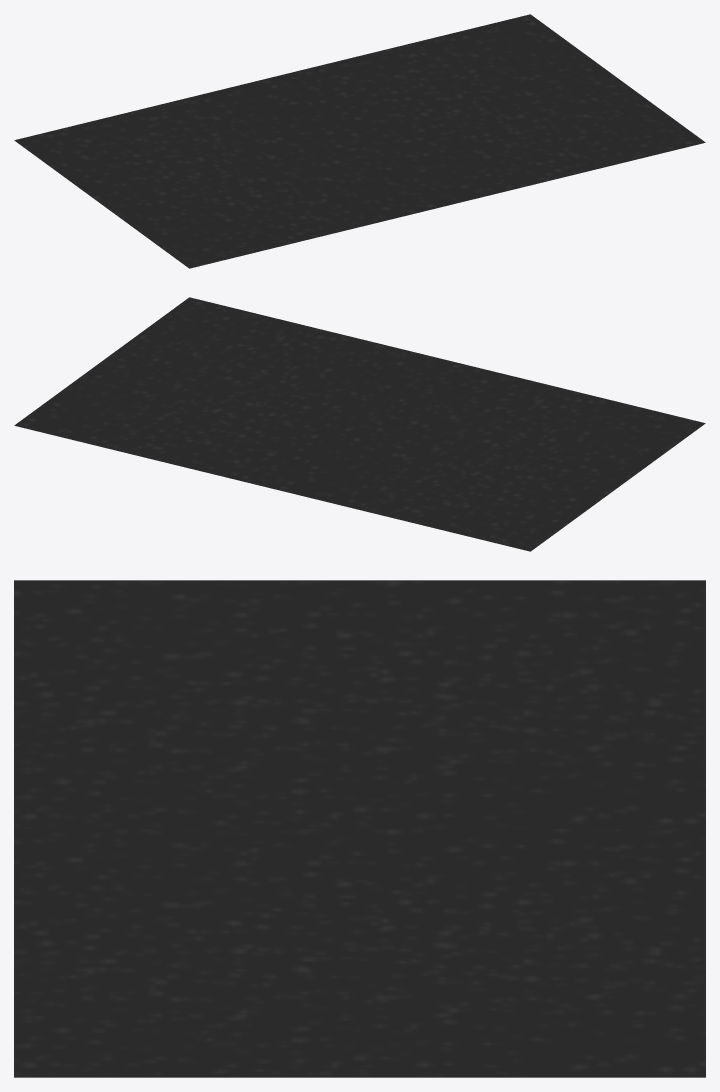
File: SW_ENV_RailBase_Double_5m.fbx
3 views of the same model, one above another, from view 1: azimuth 30°, elevation 25°; view 2: azimuth 150°, elevation 25°; view 3: azimuth 270°, elevation 25° (orthographic). The views are drawn at different scales.
Parts seen in each view (by area): view 1: SW_ENV_RailBase_Double_5m; view 2: SW_ENV_RailBase_Double_5m; view 3: SW_ENV_RailBase_Double_5m.
Part boxes in pixels (x1,y1,x2,y2): SW_ENV_RailBase_Double_5m: [14, 14, 705, 268]; SW_ENV_RailBase_Double_5m: [14, 297, 705, 551]; SW_ENV_RailBase_Double_5m: [14, 580, 705, 1077].
Bounding box in the file's own units: 850 × 1.49e-05 × 500.
